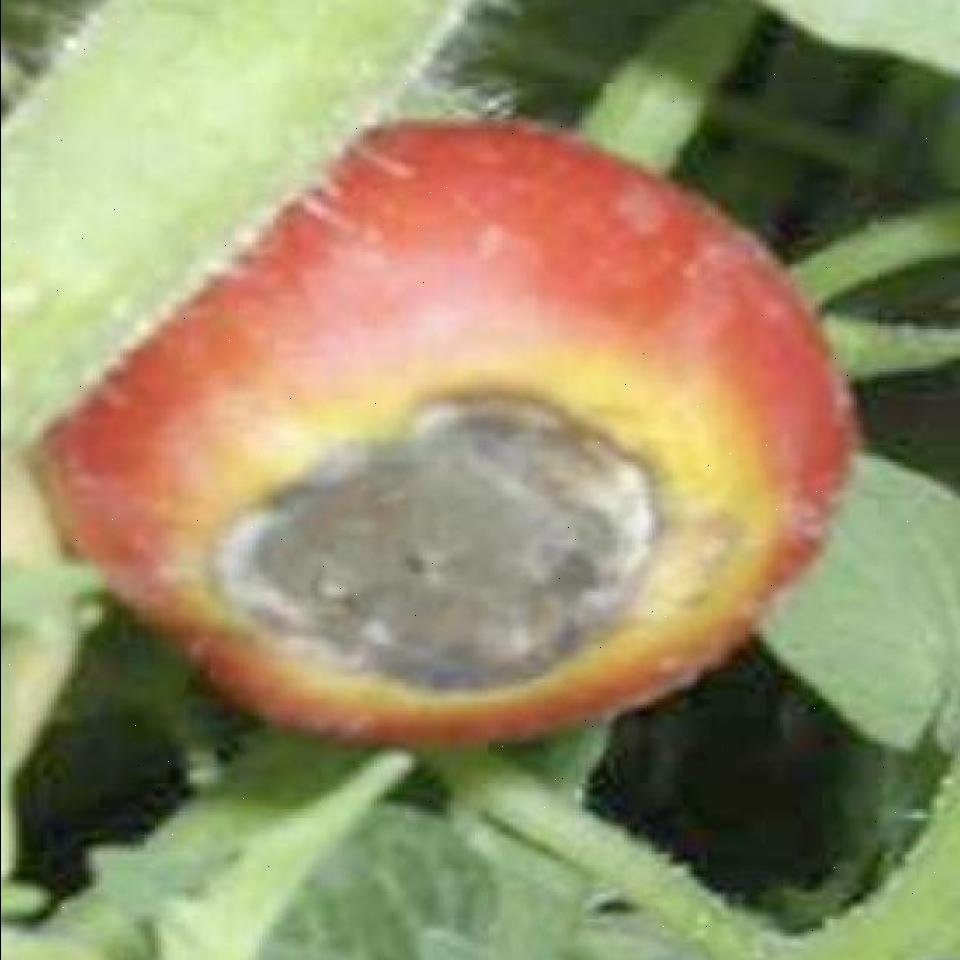Blossom_end_rot: (161, 381, 667, 711)
